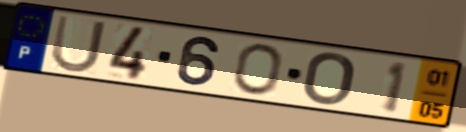1: (382, 60, 409, 115)
4: (104, 23, 150, 82)
6: (175, 34, 224, 89)
O: (301, 51, 359, 107), (231, 41, 284, 98)
U: (48, 12, 110, 75)
